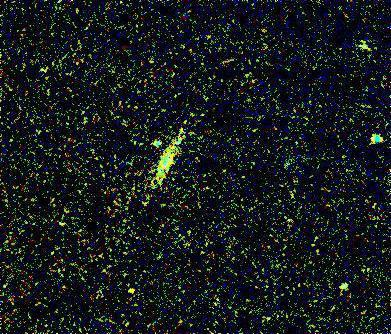star: (116, 277, 146, 307)
